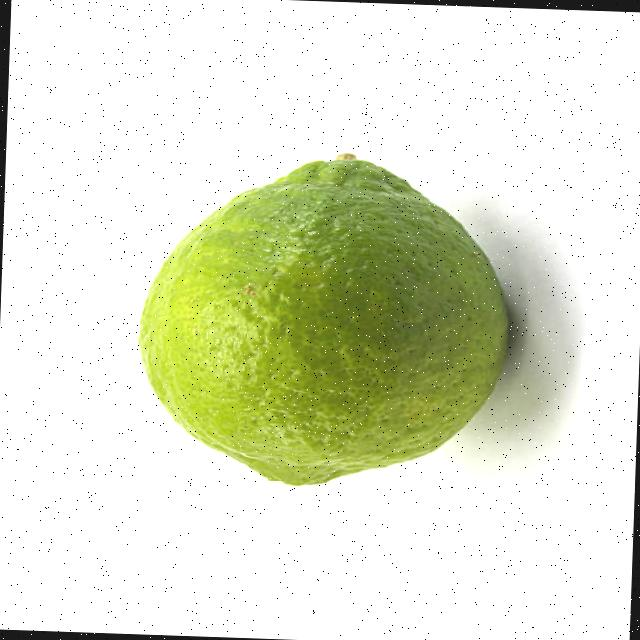Unripe: (128, 141, 518, 494)
